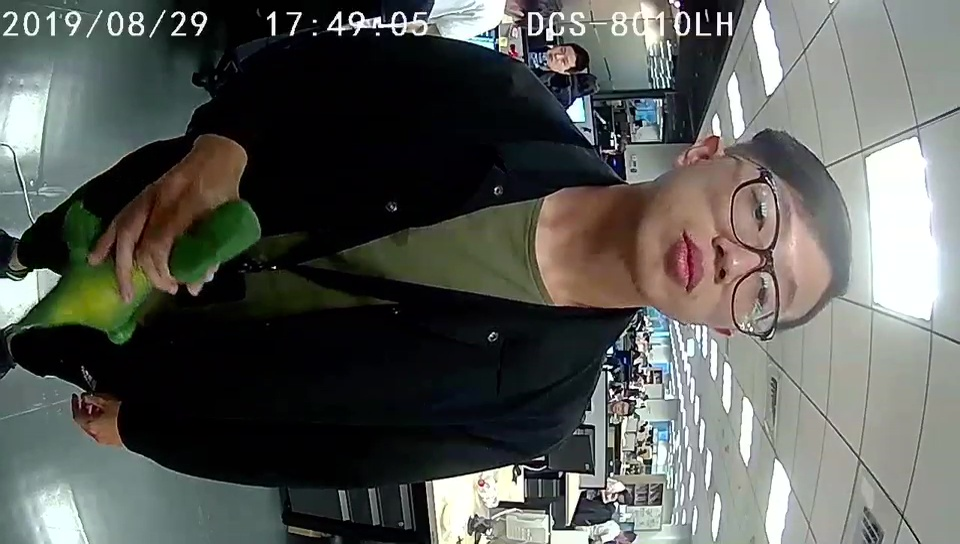rex: (49, 201, 264, 341)
